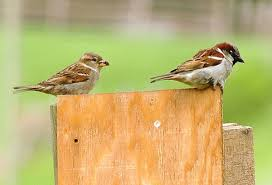hsparrow: (140, 38, 250, 93), (8, 49, 112, 102)
